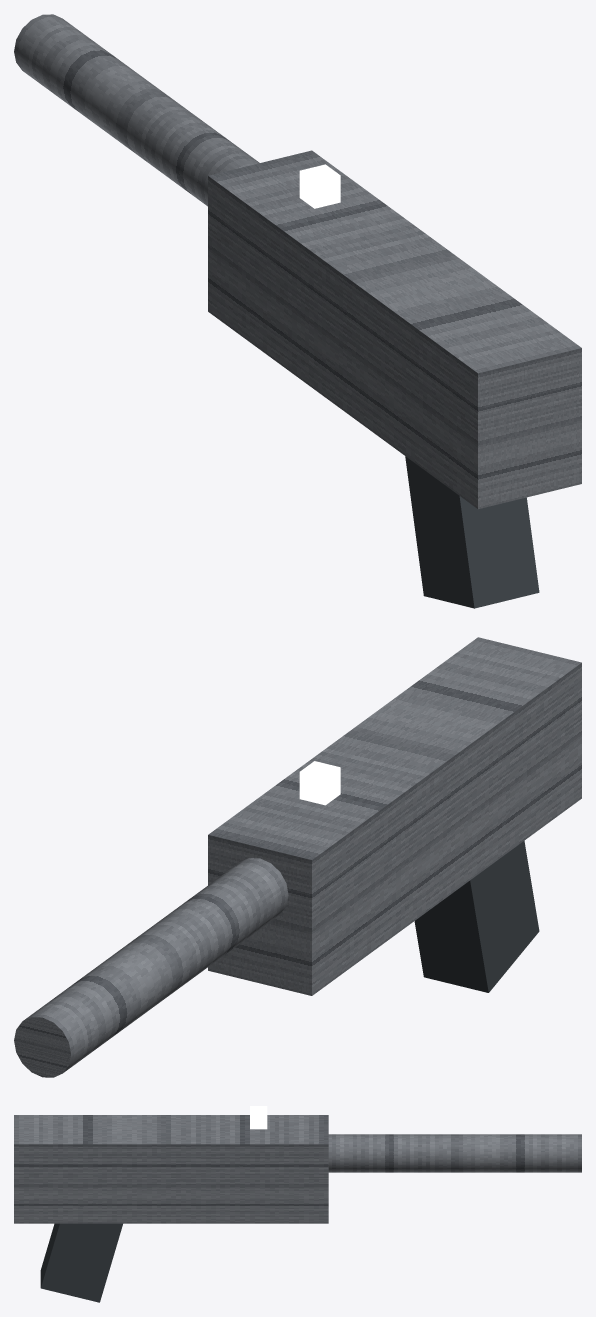
The model's file is gun.glb.
The picture shows the model from 3 angles, top to bottom: view 1: azimuth 30°, elevation 25°; view 2: azimuth 150°, elevation 25°; view 3: azimuth 270°, elevation 25°; orthographic projection. The views are drawn at different scales.
Parts seen in each view (by area): view 1: body, barrel, grip, sight; view 2: body, barrel, grip, sight; view 3: body, barrel, grip, sight.
Part boxes in pixels (<box>): body: <box>208,150,581,509</box>; barrel: <box>14,14,259,206</box>; grip: <box>405,456,539,608</box>; sight: <box>299,164,340,208</box>; body: <box>208,637,581,995</box>; barrel: <box>14,858,288,1077</box>; grip: <box>414,841,539,992</box>; sight: <box>299,761,340,805</box>; body: <box>14,1115,328,1223</box>; barrel: <box>328,1134,581,1172</box>; grip: <box>40,1223,122,1302</box>; sight: <box>250,1106,267,1129</box>.
Size of the model in its own units: 0.08 by 0.232 by 0.65.
Materials: 3 (1 with a texture image).
